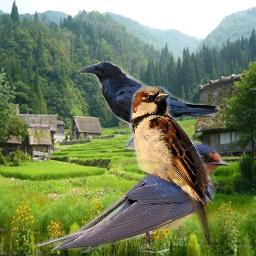Crow: (78, 61, 221, 151)
Swallow: (33, 141, 231, 253), (129, 86, 213, 247)
